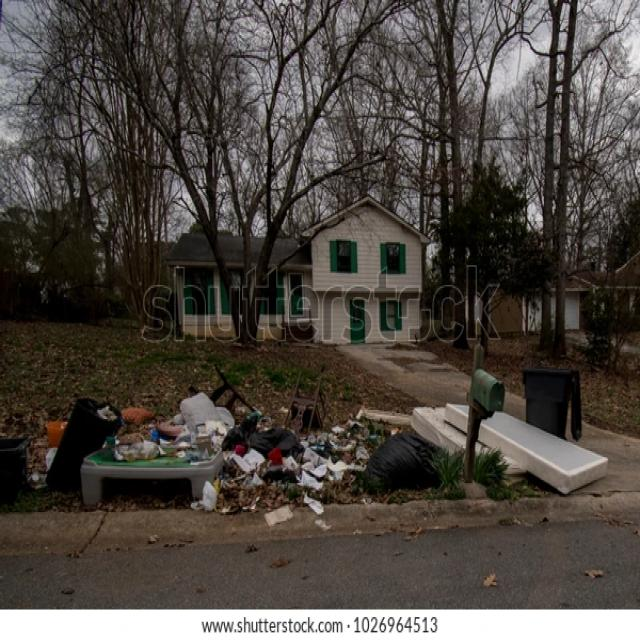House: (167, 191, 433, 346), (463, 250, 640, 337)
